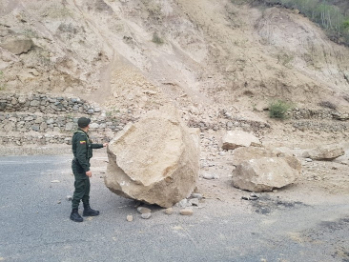stone: (100, 103, 209, 213), (227, 153, 301, 197), (213, 125, 271, 155), (300, 135, 347, 168)
